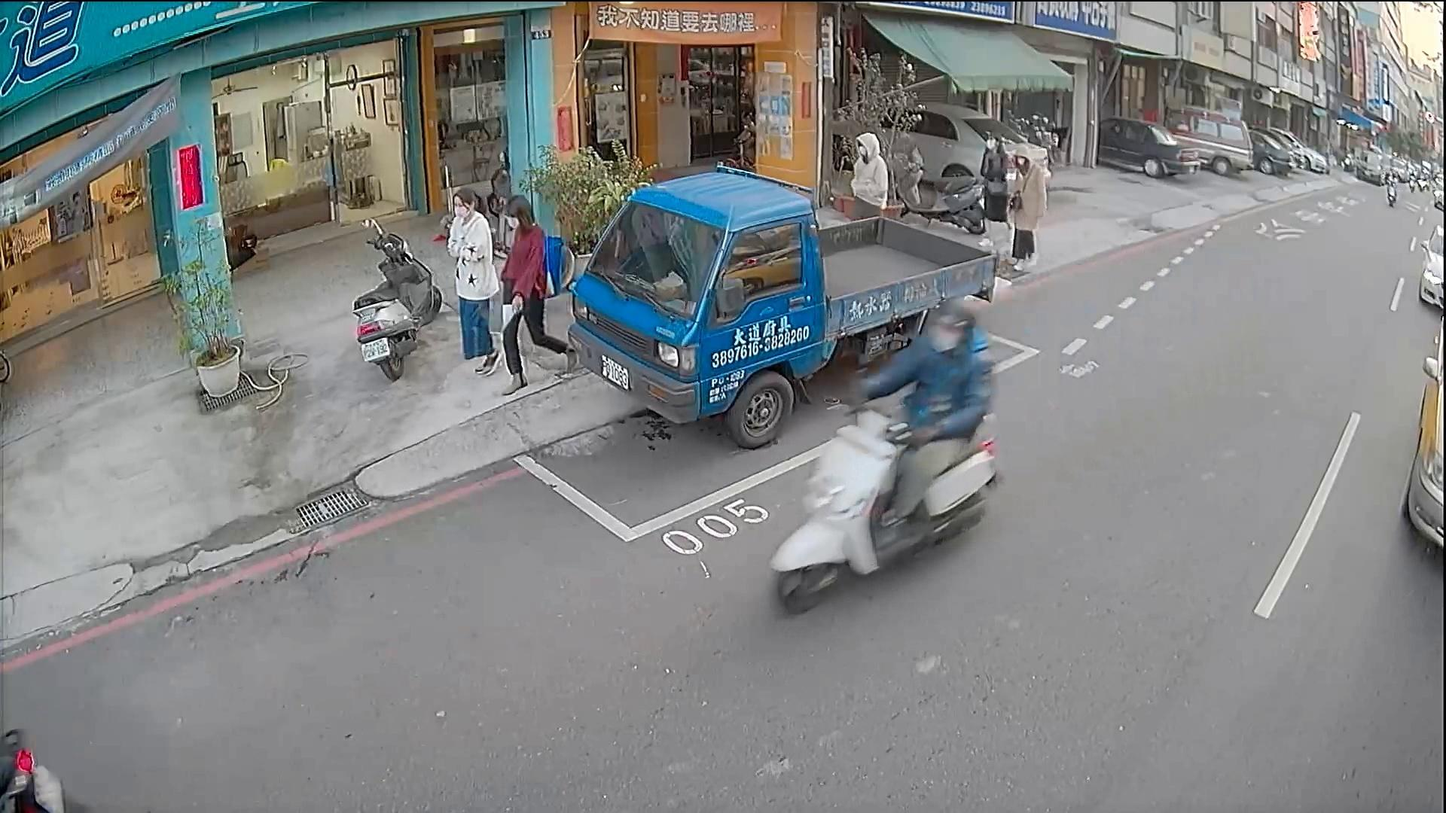person: (856, 306, 1005, 551), (484, 196, 577, 390), (444, 190, 498, 381), (1004, 143, 1049, 271), (971, 132, 1016, 241), (848, 131, 891, 220), (1384, 163, 1395, 184)
